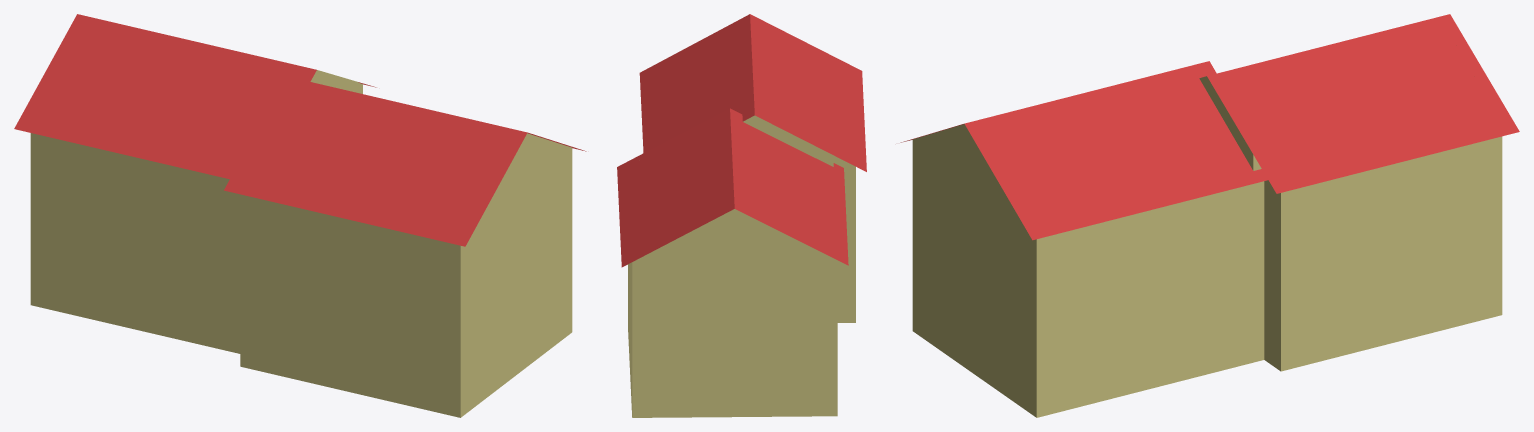
The picture shows the model from 3 angles, left to right: view 1: azimuth 30°, elevation 25°; view 2: azimuth 150°, elevation 25°; view 3: azimuth 270°, elevation 25°; orthographic projection. The views are drawn at different scales.
Bounding box in the file's own units: 28.86 × 36.91 × 16.56.
